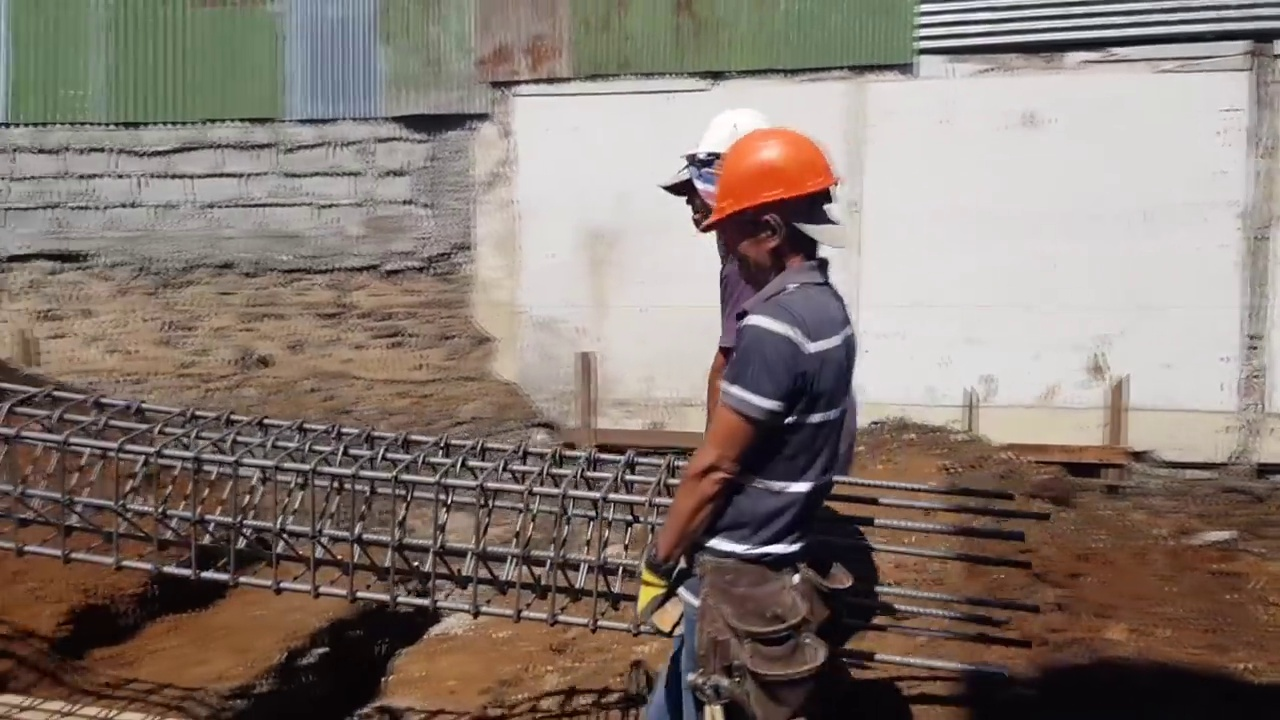helmet: (702, 122, 838, 230), (659, 112, 755, 178)
helmet-on: (701, 122, 846, 300), (661, 113, 752, 237)
person: (648, 115, 870, 686)
